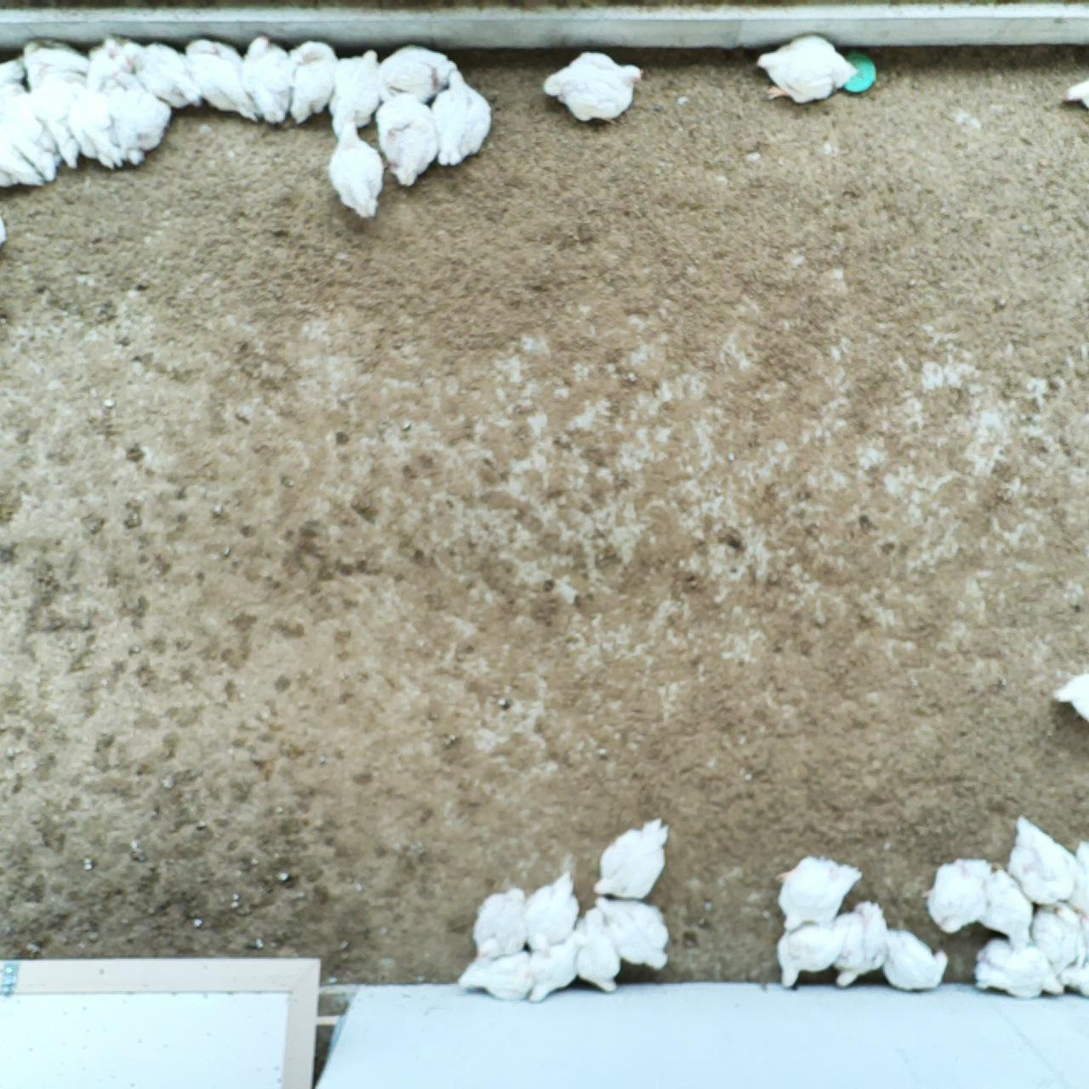chicken: (543, 47, 647, 129), (757, 33, 861, 107), (775, 852, 866, 934), (1002, 811, 1076, 909), (374, 93, 445, 191), (970, 931, 1064, 1003), (105, 68, 173, 165), (596, 817, 674, 901), (825, 896, 891, 995), (429, 68, 493, 168), (591, 894, 673, 971), (184, 35, 258, 118), (328, 118, 386, 222), (0, 83, 58, 186), (380, 41, 467, 109), (328, 47, 390, 142), (925, 854, 996, 935), (32, 63, 87, 167), (522, 870, 586, 956), (237, 33, 294, 128), (67, 79, 128, 167), (975, 865, 1037, 951), (774, 921, 850, 989), (122, 42, 197, 109), (470, 884, 534, 962), (877, 928, 953, 993), (524, 928, 584, 1008), (288, 40, 344, 123), (454, 948, 540, 1000), (572, 908, 623, 992), (16, 36, 91, 90), (1030, 899, 1088, 965), (85, 39, 135, 90), (1051, 665, 1089, 725), (1066, 837, 1089, 917), (0, 57, 29, 109), (1054, 955, 1089, 997), (1057, 71, 1089, 111)
